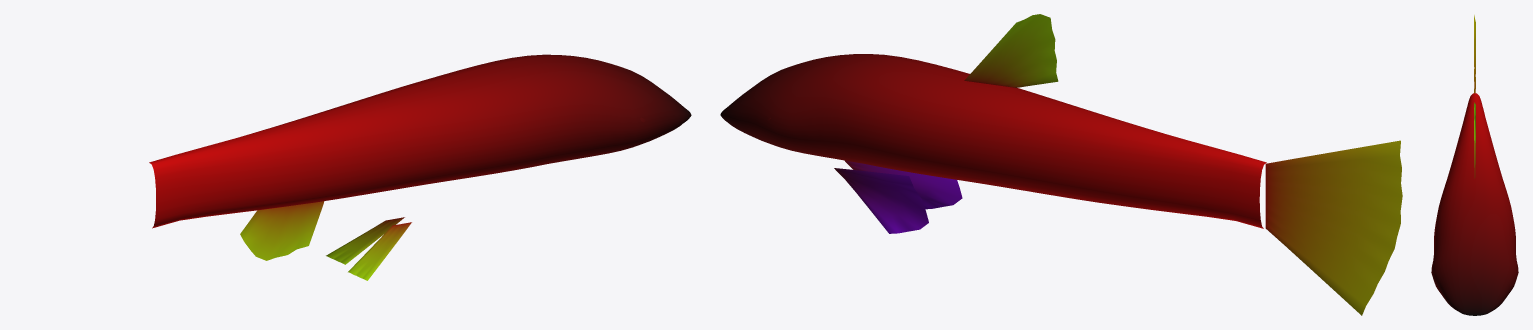
Rendered from otocinclus.glb.
The picture shows the model from 3 angles, left to right: view 1: azimuth 30°, elevation 25°; view 2: azimuth 150°, elevation 25°; view 3: azimuth 270°, elevation 25°; orthographic projection. The views are drawn at different scales.
Parts seen in each view (by area): view 1: body; view 2: body; view 3: body.
Part boxes in pixels (x1,y1,x2,y2): body: (149,54,691,280); body: (720,14,1402,315); body: (1431,15,1518,315).
Size of the model in its own units: 0.0559 by 0.0202 by 0.00953.
